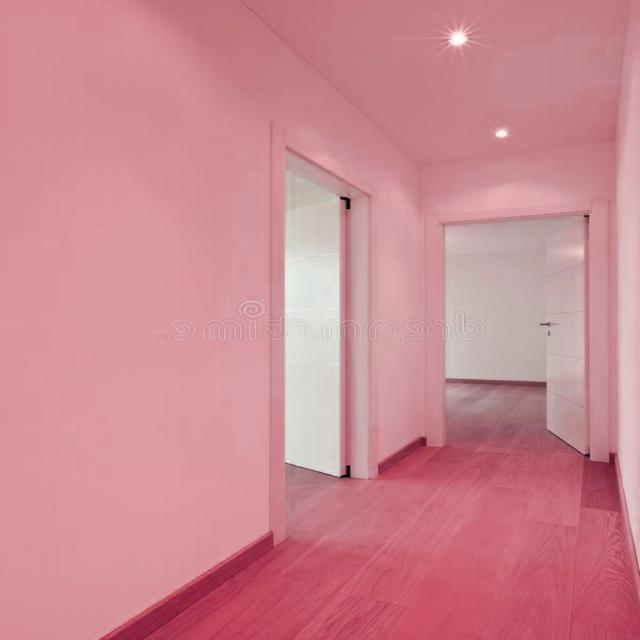door: (420, 192, 613, 467), (245, 116, 371, 520)
